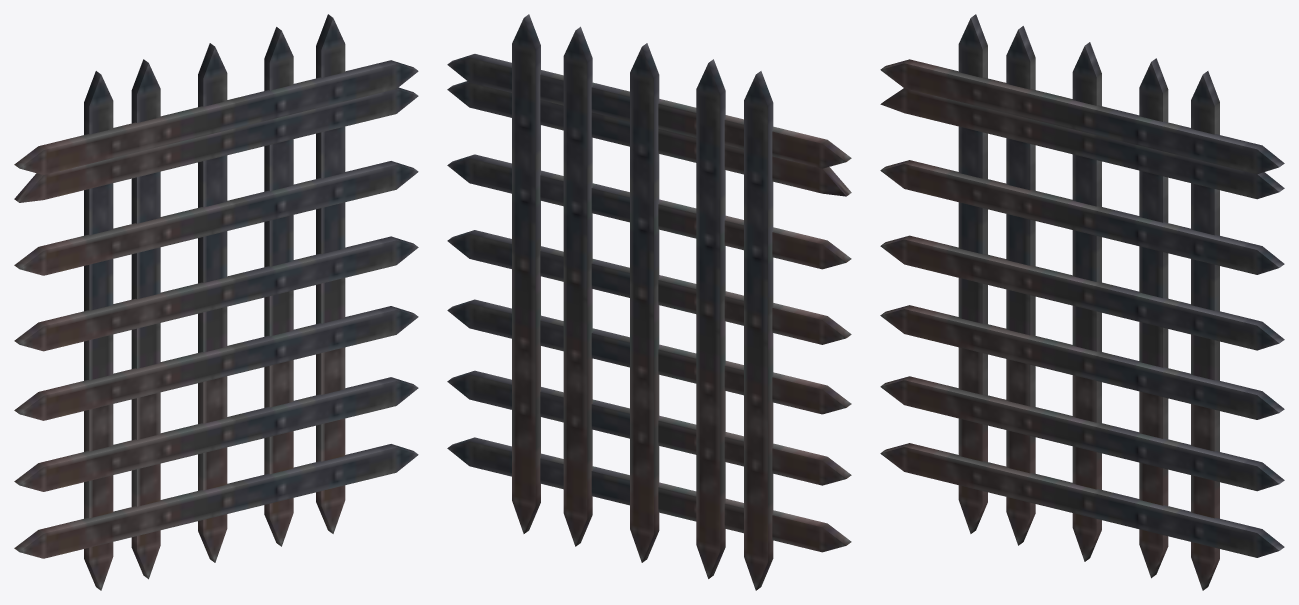
File: castleGate.fbx
3 renders of one model, left to right at view 1: azimuth 30°, elevation 25°; view 2: azimuth 150°, elevation 25°; view 3: azimuth 330°, elevation 25°, orthographic.
Parts seen in each view (by area): view 1: castleGate; view 2: castleGate; view 3: castleGate.
Boxes of the visible parts, bbox=[...] form: castleGate: bbox=[14, 14, 418, 590]; castleGate: bbox=[447, 14, 851, 590]; castleGate: bbox=[880, 14, 1284, 590].
Bounding box in the file's own units: 5.18 × 6.4 × 0.2186.
